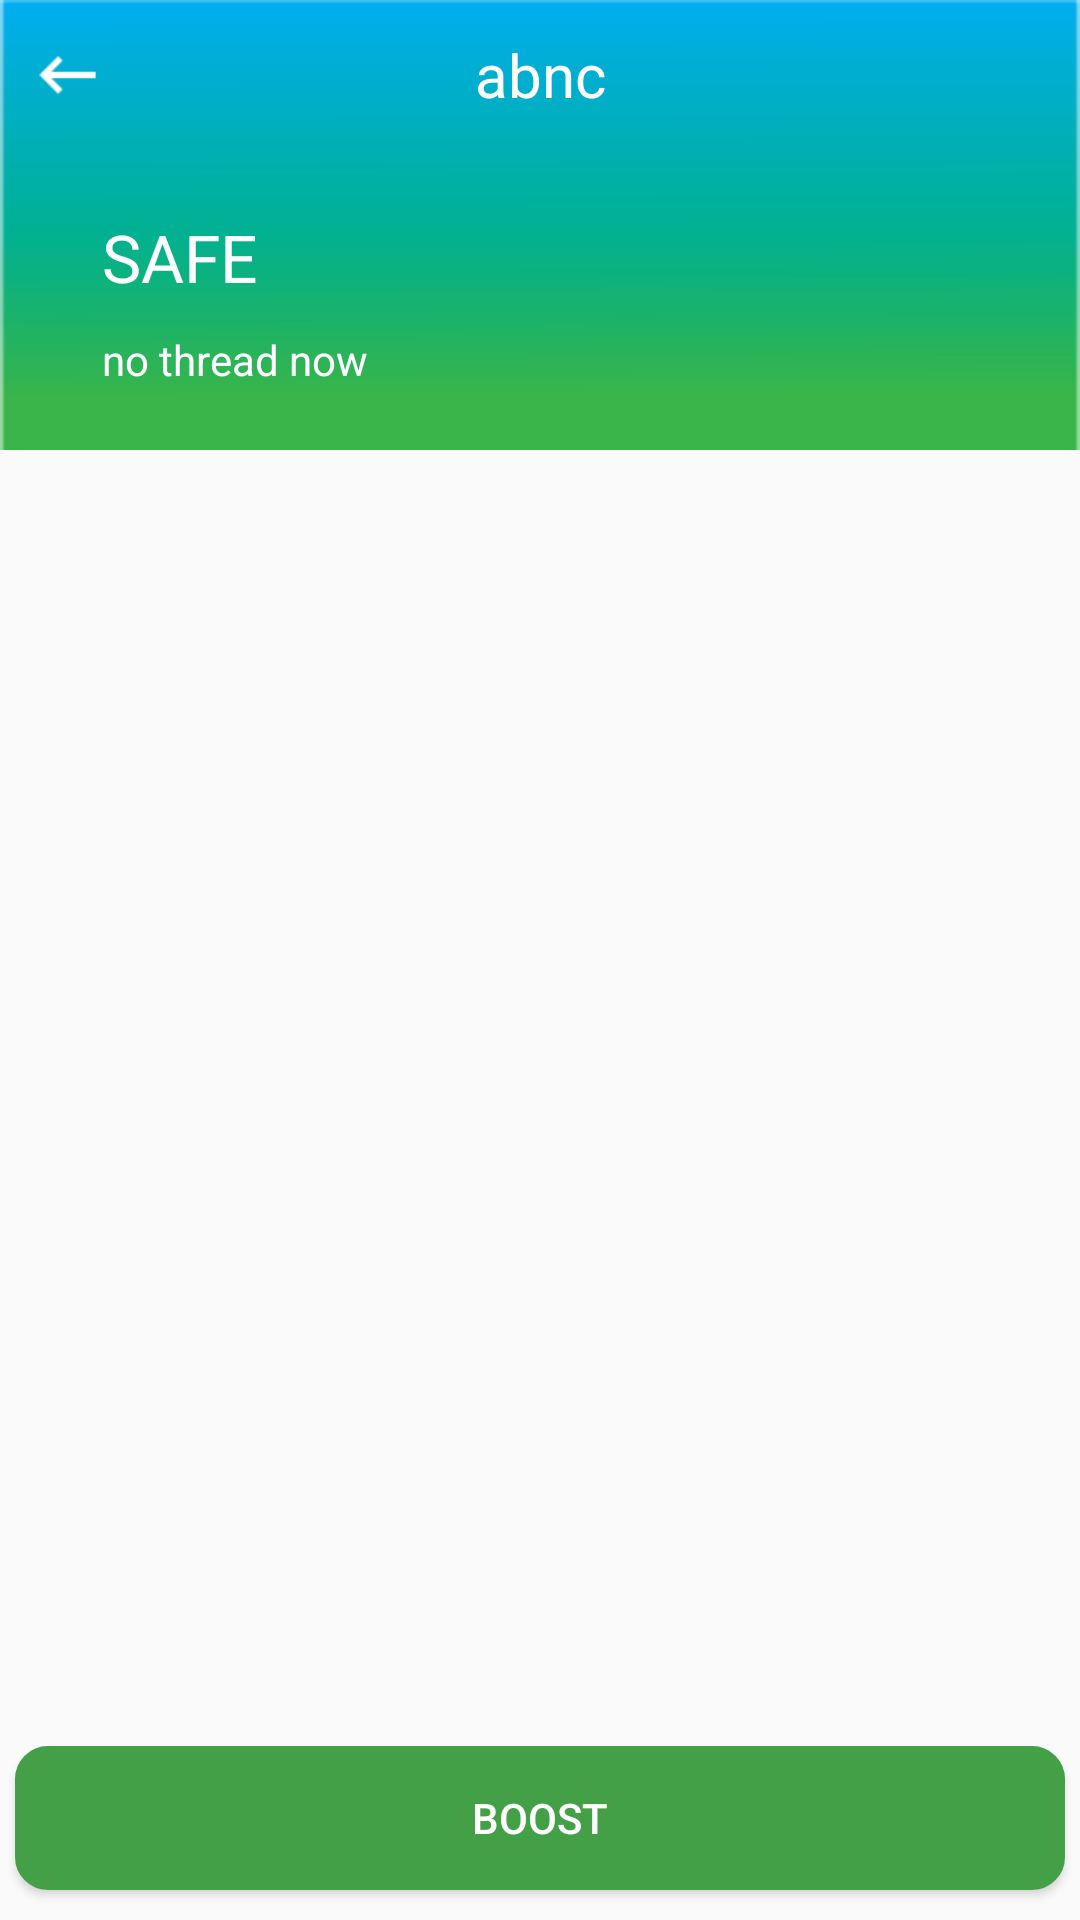

Where to tap for icons on this 1080x1920 app screen, as point (x, y):
back: point (67, 75)
